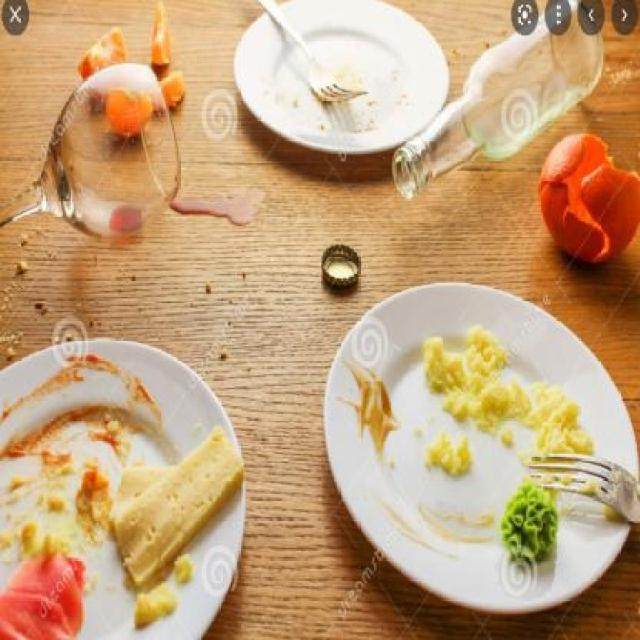Glass: (8, 63, 184, 245)
Plate: (331, 283, 631, 628), (1, 336, 254, 638), (231, 3, 451, 155)
